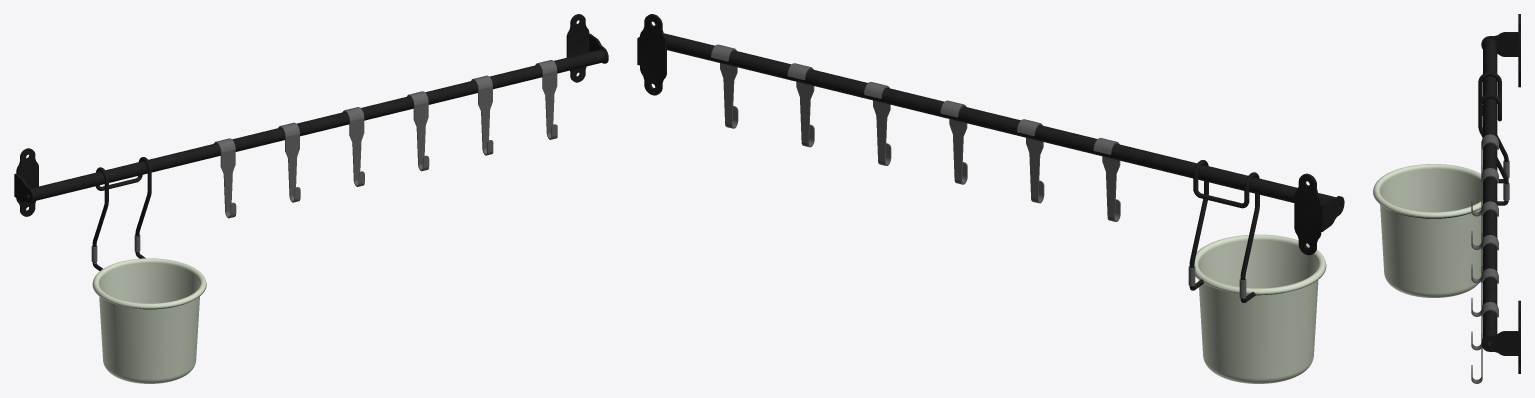
File: 077 - stand divari jadid meshki goldan sabz.glb
The picture shows the model from 3 angles, left to right: view 1: azimuth 30°, elevation 25°; view 2: azimuth 150°, elevation 25°; view 3: azimuth 270°, elevation 25°; orthographic projection. The views are drawn at different scales.
Parts seen in each view (by area): view 1: Group#30 [70114], Group#4 [70126], Group#1 [97149] (×6), [55236], [3062], [2179]; view 2: Group#30 [70114], Group#4 [70126], Group#1 [97149] (×6), [55236], [3062], [2179], Group#159 [3598]; view 3: Group#30 [70114], Group#4 [70126], Group#1 [97149] (×6), Group#159 [3598] (×2), [55236], [2179], [3062].
Boxes of the visible parts, left/top/right/bottom form: Group#30 [70114]: left=92, top=258, right=206, bottom=383; Group#4 [70126]: left=31, top=49, right=605, bottom=200; Group#1 [97149] (×6): left=213, top=60, right=557, bottom=218; [55236]: left=92, top=157, right=183, bottom=309; [3062]: left=566, top=14, right=589, bottom=82; [2179]: left=16, top=148, right=38, bottom=216; Group#30 [70114]: left=1194, top=234, right=1326, bottom=383; Group#4 [70126]: left=664, top=33, right=1335, bottom=203; Group#1 [97149] (×6): left=711, top=44, right=1120, bottom=221; [55236]: left=1189, top=160, right=1282, bottom=302; [3062]: left=640, top=14, right=666, bottom=95; [2179]: left=1294, top=173, right=1321, bottom=255; Group#159 [3598]: left=1320, top=196, right=1344, bottom=231; Group#30 [70114]: left=1373, top=164, right=1482, bottom=297; Group#4 [70126]: left=1483, top=38, right=1497, bottom=345; Group#1 [97149] (×6): left=1471, top=134, right=1498, bottom=383; Group#159 [3598] (×2): left=1481, top=32, right=1520, bottom=355; [55236]: left=1392, top=71, right=1508, bottom=218; [2179]: left=1518, top=14, right=1520, bottom=87; [3062]: left=1518, top=300, right=1520, bottom=373.
Bounding box in the file's own units: 0.806 × 0.2792 × 0.168.
4 materials, 2 textured.
